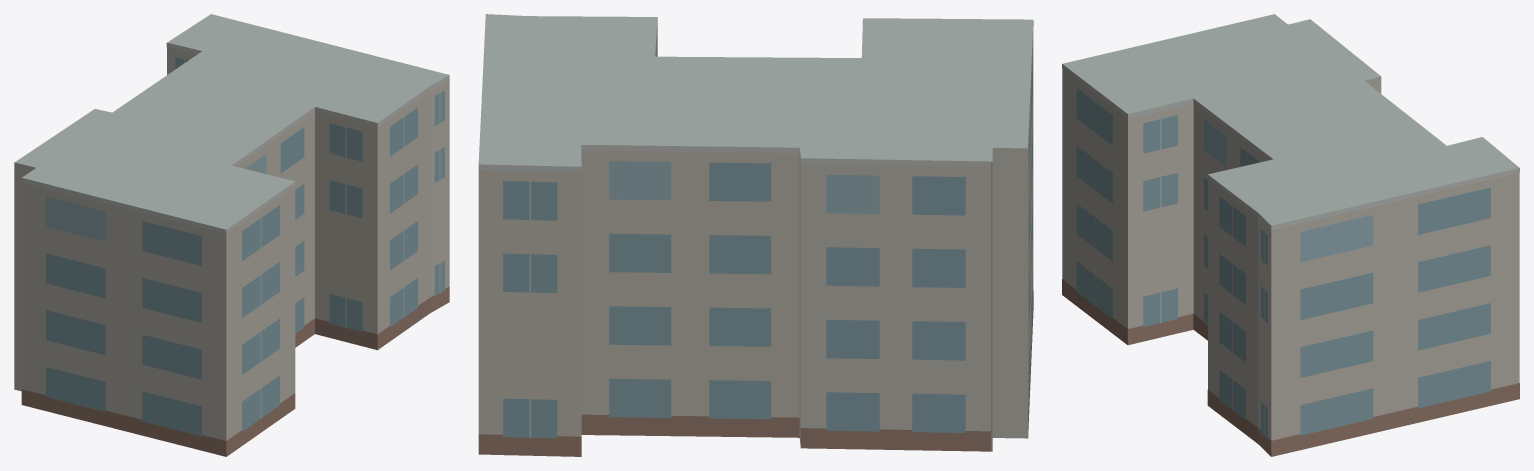
Rendered from survey-upis-32590741.glb.
3 renders of one model, left to right at view 1: azimuth 30°, elevation 25°; view 2: azimuth 150°, elevation 25°; view 3: azimuth 270°, elevation 25°, orthographic. The views are drawn at different scales.
Visible parts, largest first — view 1: survey-upis-32590741.tmp; view 2: survey-upis-32590741.tmp; view 3: survey-upis-32590741.tmp.
Boxes of the visible parts, x1,y1,x2,y2 form: survey-upis-32590741.tmp: (14, 14, 449, 456); survey-upis-32590741.tmp: (478, 14, 1033, 456); survey-upis-32590741.tmp: (1062, 14, 1519, 456).
Bounding box in the file's own units: 23.97 × 12.2 × 21.89.
